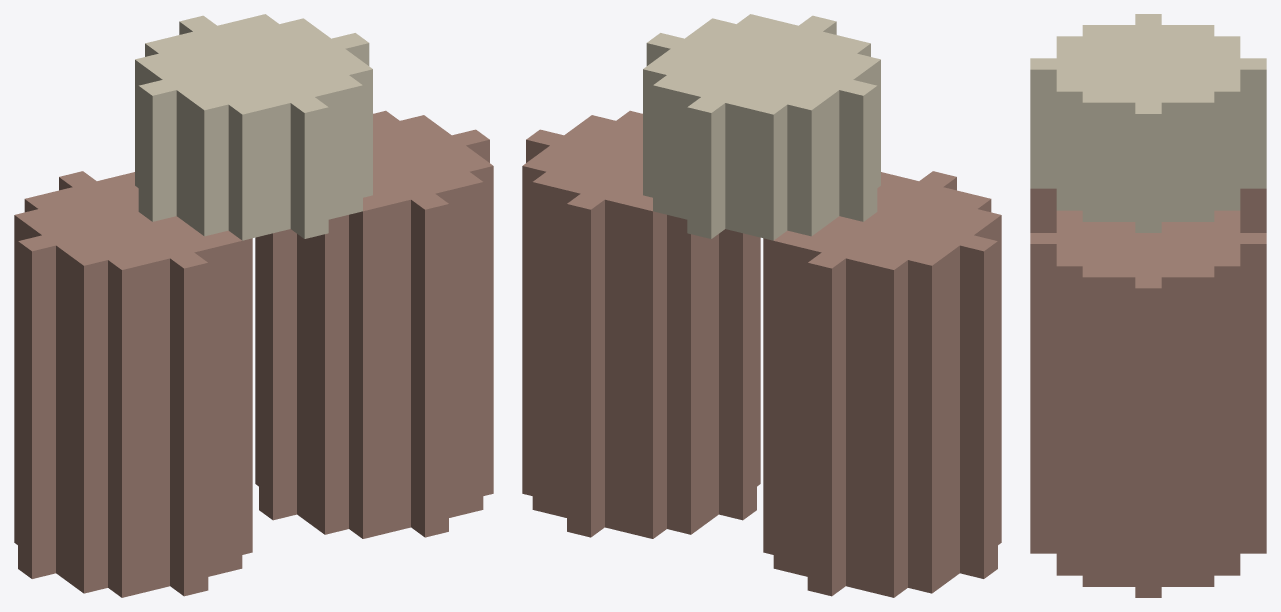
Rendered from hospitality-11.glb.
The picture shows the model from 3 angles, left to right: view 1: azimuth 30°, elevation 25°; view 2: azimuth 150°, elevation 25°; view 3: azimuth 270°, elevation 25°; orthographic projection. The views are drawn at different scales.
Parts seen in each view (by area): view 1: Bath towel stack; view 2: Bath towel stack; view 3: Bath towel stack.
Boxes of the visible parts, x1,y1,x2,y2 form: Bath towel stack: (14, 14, 493, 597); Bath towel stack: (522, 14, 1001, 597); Bath towel stack: (1030, 14, 1266, 597).
Bounding box in the file's own units: 1.52 × 1.44 × 0.72.
